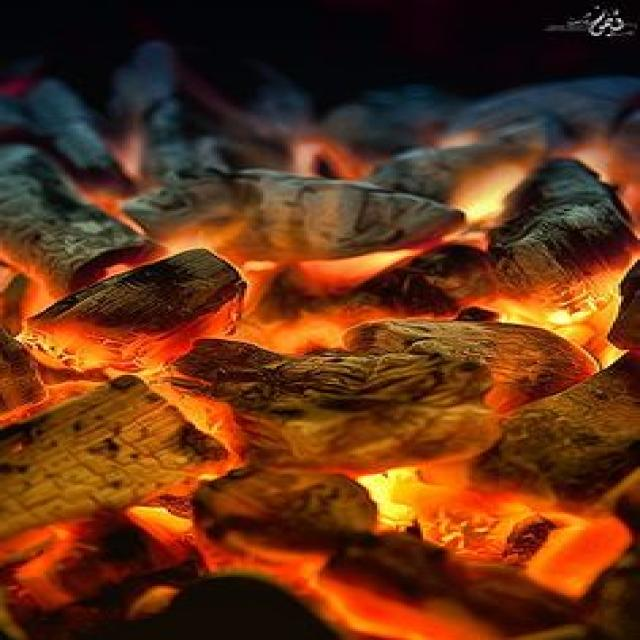Fire: (0, 103, 640, 640)
